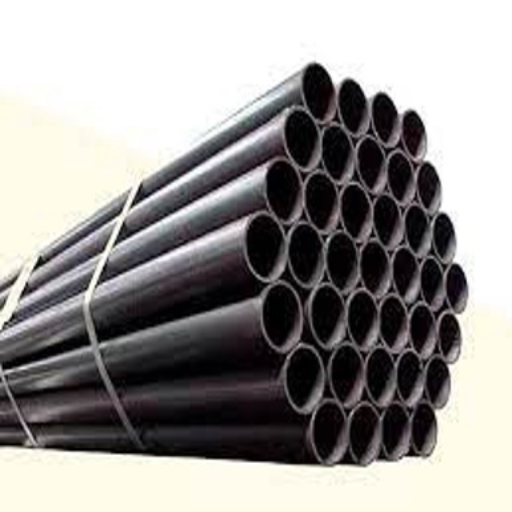Circle: (245, 216, 285, 279), (261, 284, 301, 347), (286, 346, 323, 411), (263, 159, 301, 220), (283, 108, 321, 168), (311, 285, 345, 347), (289, 224, 324, 282), (312, 401, 345, 462), (304, 172, 338, 231), (328, 345, 362, 404), (301, 64, 334, 119), (349, 404, 379, 463), (328, 232, 358, 288), (349, 291, 379, 347), (339, 79, 369, 134), (341, 184, 371, 239), (324, 124, 352, 182), (360, 241, 389, 295), (367, 348, 394, 404), (357, 137, 384, 191), (382, 296, 408, 351), (392, 248, 419, 299), (375, 196, 401, 246), (397, 351, 422, 403), (405, 205, 430, 255), (373, 95, 399, 143), (384, 405, 408, 456), (412, 405, 436, 455), (388, 153, 412, 202), (411, 306, 435, 355), (440, 313, 462, 362), (403, 112, 426, 157), (433, 215, 456, 260), (427, 359, 450, 404), (422, 259, 444, 306), (418, 164, 439, 210), (447, 266, 466, 310)
